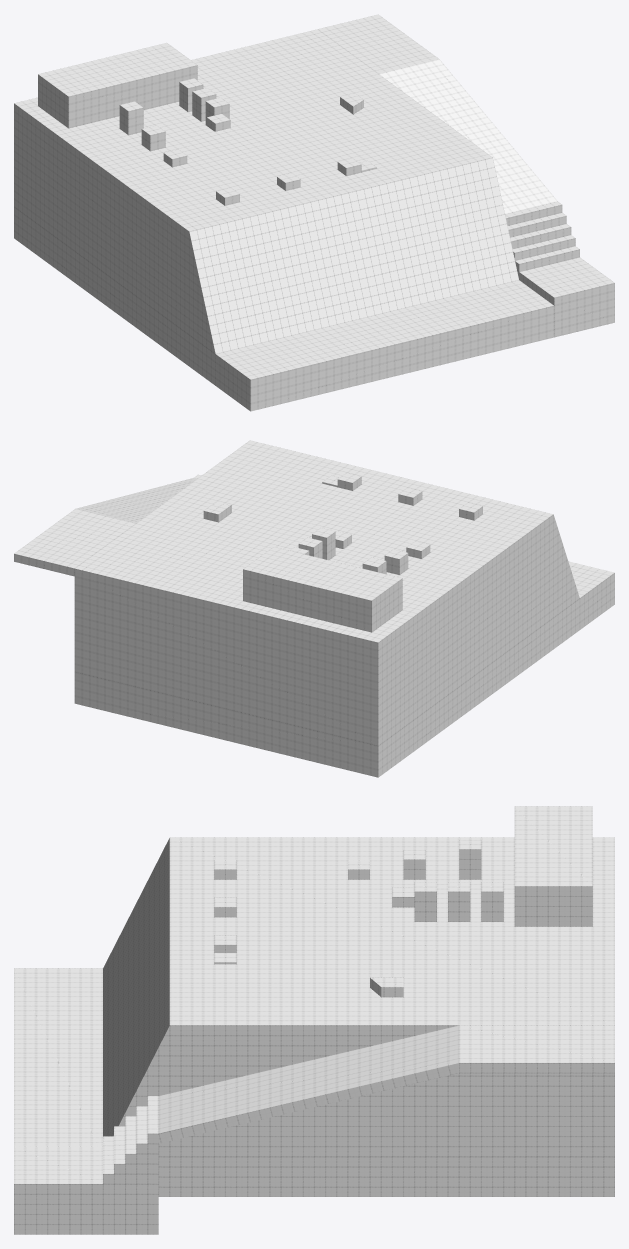
The model's file is playground2.glb.
3 renders of one model, top to bottom at view 1: azimuth 30°, elevation 25°; view 2: azimuth 150°, elevation 25°; view 3: azimuth 270°, elevation 25°, orthographic. The views are drawn at different scales.
Parts seen in each view (by area): view 1: Floor, Cube.001, Wall, Cube.002, Cube.003; view 2: Floor, Wall, Cube.001, Cube.003, Cube.011; view 3: Floor, Cube.001, Wall, Cube.002, Cube.010, Cube.011, Cube.012, Cube.003, Cube.007.
Boxes of the visible parts, bbox=[...] form: Floor: bbox=[14, 29, 554, 411]; Cube.001: bbox=[318, 14, 614, 337]; Wall: bbox=[38, 43, 197, 128]; Cube.002: bbox=[119, 101, 143, 135]; Cube.003: bbox=[141, 125, 165, 151]; Floor: bbox=[74, 440, 614, 777]; Wall: bbox=[243, 547, 402, 632]; Cube.001: bbox=[14, 474, 201, 576]; Cube.003: bbox=[384, 549, 408, 574]; Cube.011: bbox=[312, 528, 335, 560]; Floor: bbox=[14, 837, 614, 1196]; Cube.001: bbox=[14, 1025, 614, 1234]; Wall: bbox=[514, 806, 592, 926]; Cube.002: bbox=[459, 840, 481, 879]; Cube.010: bbox=[481, 882, 503, 921]; Cube.011: bbox=[414, 882, 436, 921]; Cube.012: bbox=[448, 882, 470, 921]; Cube.003: bbox=[403, 850, 425, 879]; Cube.007: bbox=[370, 977, 403, 997].
Size of the model in its own units: 48 by 21 by 54.
Materials: 5 (5 with a texture image).
